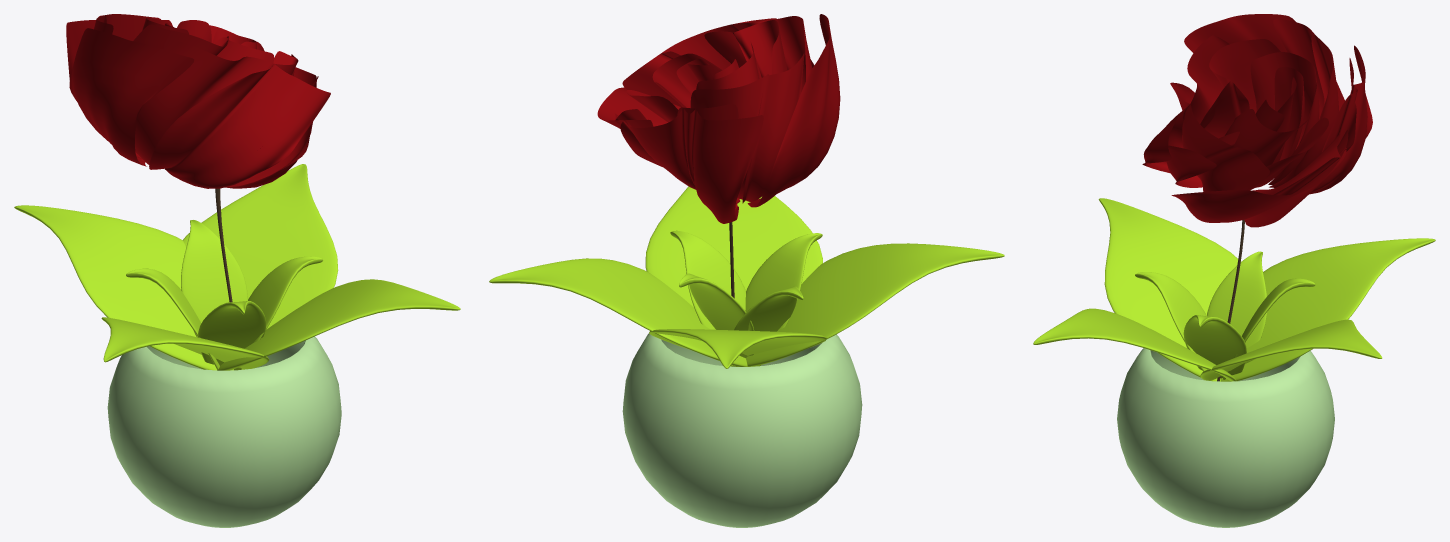
File: maceta maca r.fbx
3 views of the same model, side by side, from view 1: azimuth 30°, elevation 25°; view 2: azimuth 150°, elevation 25°; view 3: azimuth 270°, elevation 25° (orthographic). The views are drawn at different scales.
Visible parts, largest first — view 1: Plane.016, Sphere; view 2: Plane.016, Sphere; view 3: Plane.016, Sphere.
Boxes of the visible parts, <box> form: Plane.016: <box>14,14,460,370</box>; Sphere: <box>107,336,341,527</box>; Plane.016: <box>489,14,1004,368</box>; Sphere: <box>622,333,862,527</box>; Plane.016: <box>1033,14,1435,381</box>; Sphere: <box>1117,348,1334,527</box>.
Size of the model in its own units: 15.61 by 20.64 by 16.62.
